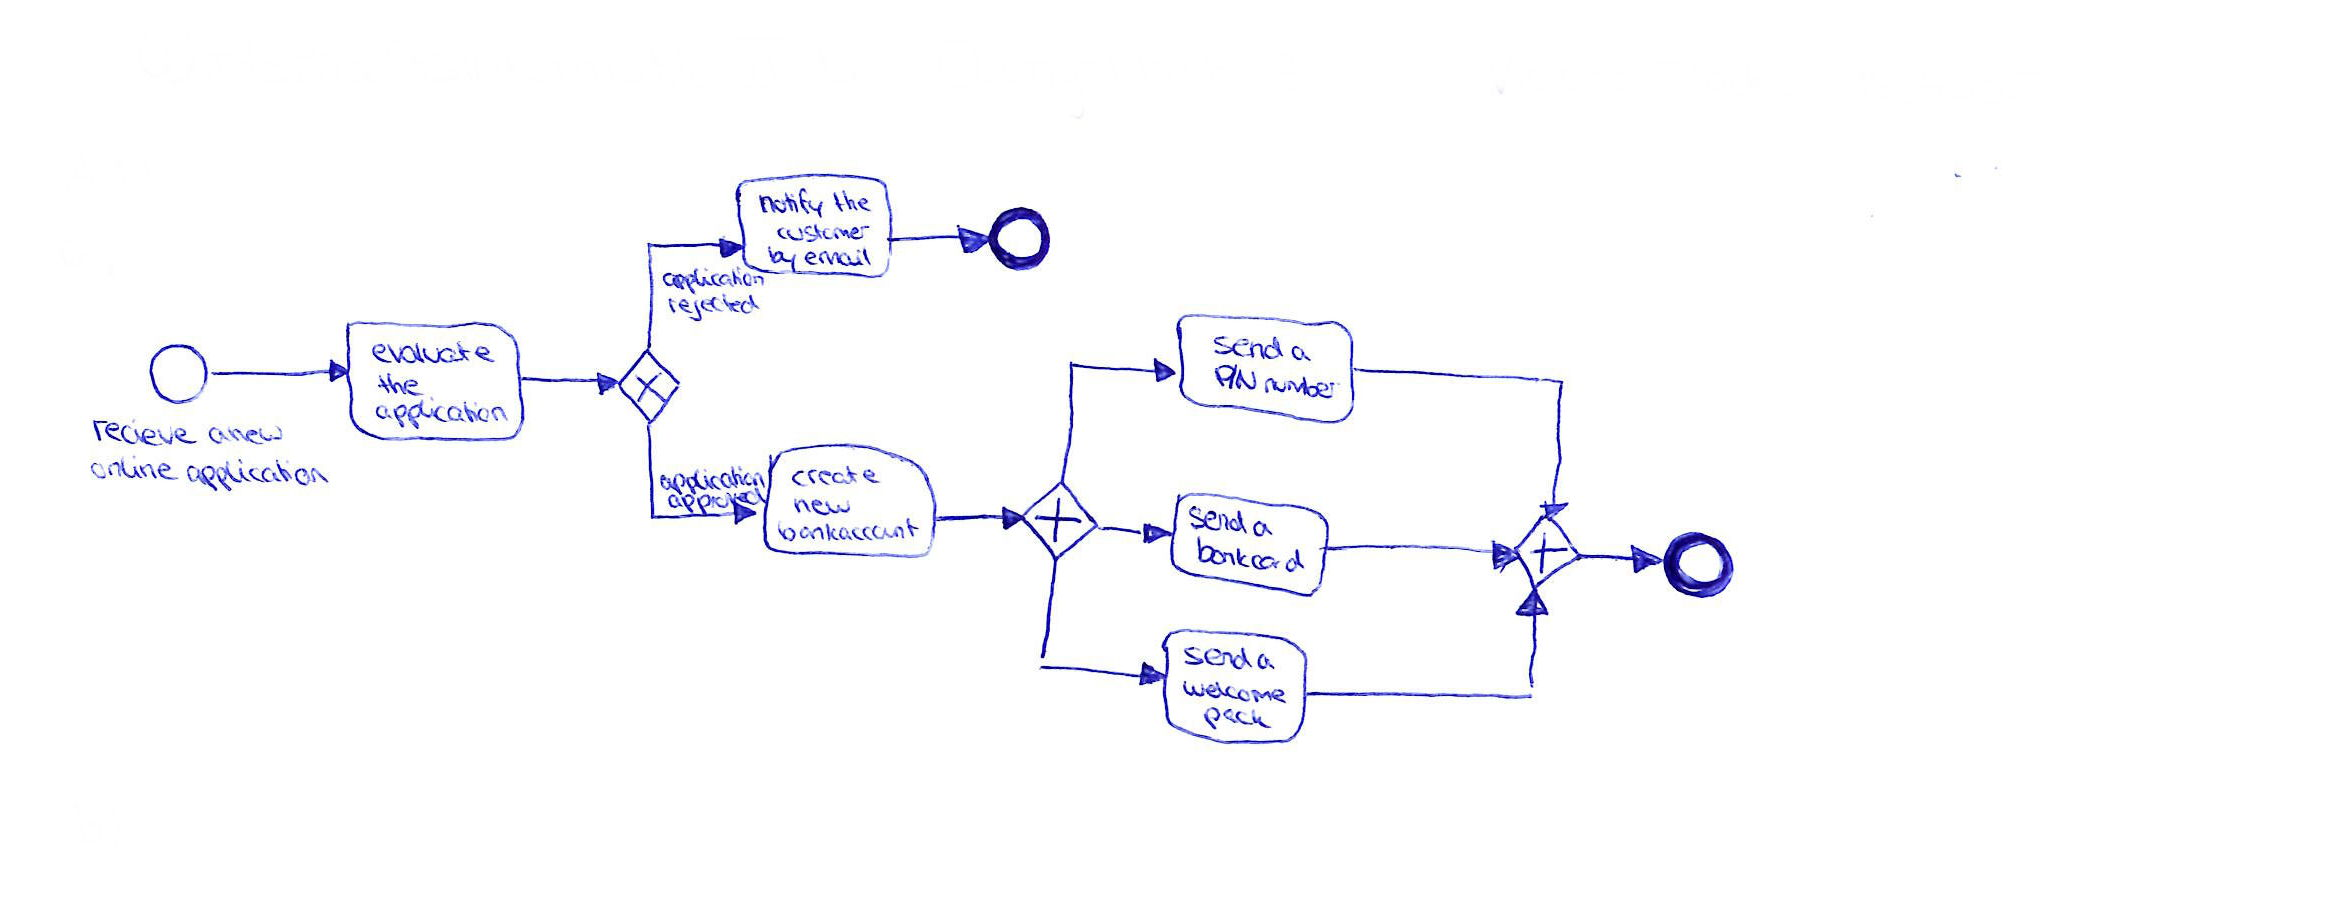PIN: (1212, 362, 1258, 395)
a: (1285, 338, 1315, 367), (1252, 647, 1279, 678), (1250, 516, 1278, 541)
anew: (204, 420, 286, 449)
application: (180, 456, 333, 492), (367, 399, 514, 429), (658, 262, 771, 294), (658, 463, 766, 495)
approved: (667, 495, 766, 523)
bankaccount: (771, 519, 921, 544)
bankcard: (1194, 533, 1311, 574)
by: (769, 246, 799, 270)
create: (789, 463, 883, 490)
customer: (775, 221, 871, 243)
email: (804, 246, 875, 270)
evaluate: (362, 335, 500, 373)
new: (789, 496, 857, 516)
notify: (753, 186, 828, 222)
number: (1261, 370, 1337, 402)
online: (88, 454, 177, 484)
pack: (1197, 705, 1273, 732)
recieve: (89, 419, 197, 449)
rejected: (662, 294, 760, 320)
send: (1211, 329, 1288, 364), (1179, 642, 1258, 672), (1187, 501, 1252, 536)
the: (374, 373, 425, 399), (831, 189, 871, 216)
welcome: (1181, 677, 1287, 705)
